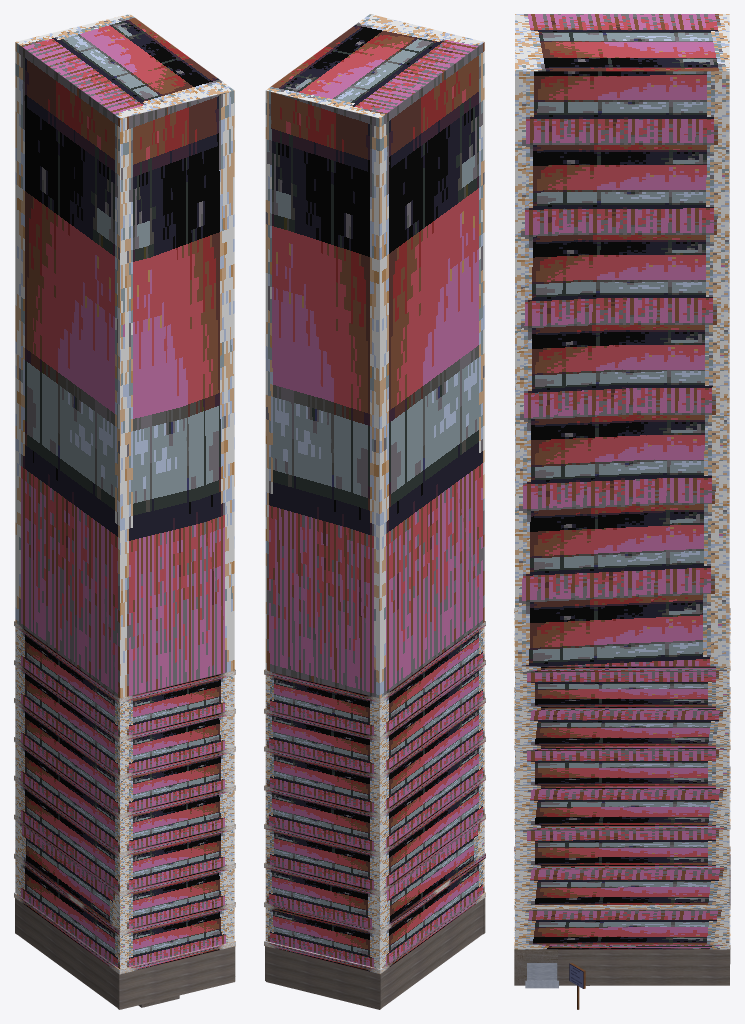
The model's file is ultimate school.glb.
The picture shows the model from 3 angles, left to right: view 1: azimuth 30°, elevation 25°; view 2: azimuth 150°, elevation 25°; view 3: azimuth 270°, elevation 25°; orthographic projection. The views are drawn at different scales.
Visible parts, largest first — view 1: Cube.005, Cube.003, Cube.012; view 2: Cube.005, Cube.004, Cube.012; view 3: Cube.005, Cube.001, Cube.
Part boxes in pixels (box(x1,y1,x2,y2)): Cube.005: box(14, 14, 235, 974); Cube.003: box(117, 946, 234, 1009); Cube.012: box(15, 898, 117, 1007); Cube.005: box(264, 14, 485, 974); Cube.004: box(266, 946, 380, 1009); Cube.012: box(380, 899, 483, 1008); Cube.005: box(514, 14, 730, 988); Cube.001: box(557, 949, 729, 985); Cube: box(527, 963, 557, 980).
Size of what is drawn, in the model's own units: 13.93 by 91.54 by 19.24.
13 materials, 8 textured.
